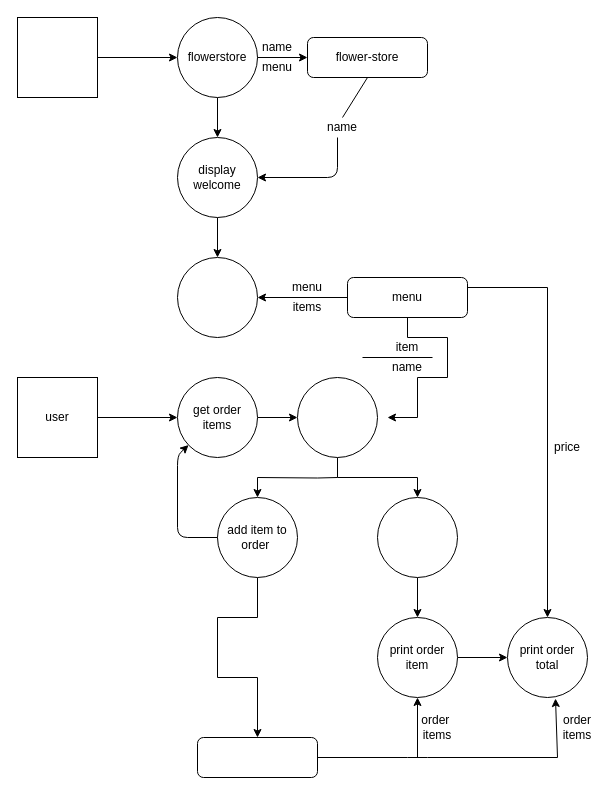
This 615x795 diagram has some shape labels left out. The shapes that lost their labels are listed below. From the top down, each one's box as (x1, y1, x2, y2) in pixels, then its label:
(16, 16, 98, 98): app
(176, 256, 258, 338): display menu
(296, 376, 378, 458): validate order item
(376, 496, 458, 578): done
(196, 736, 318, 778): order
